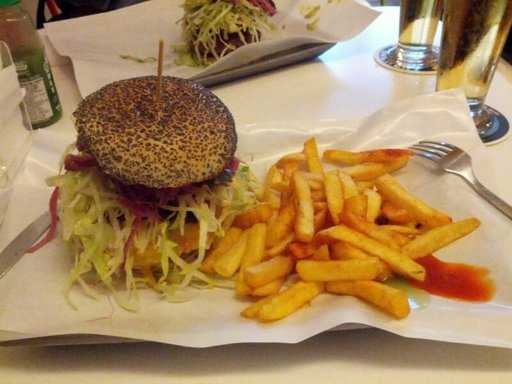hamburger: (63, 65, 222, 284)
